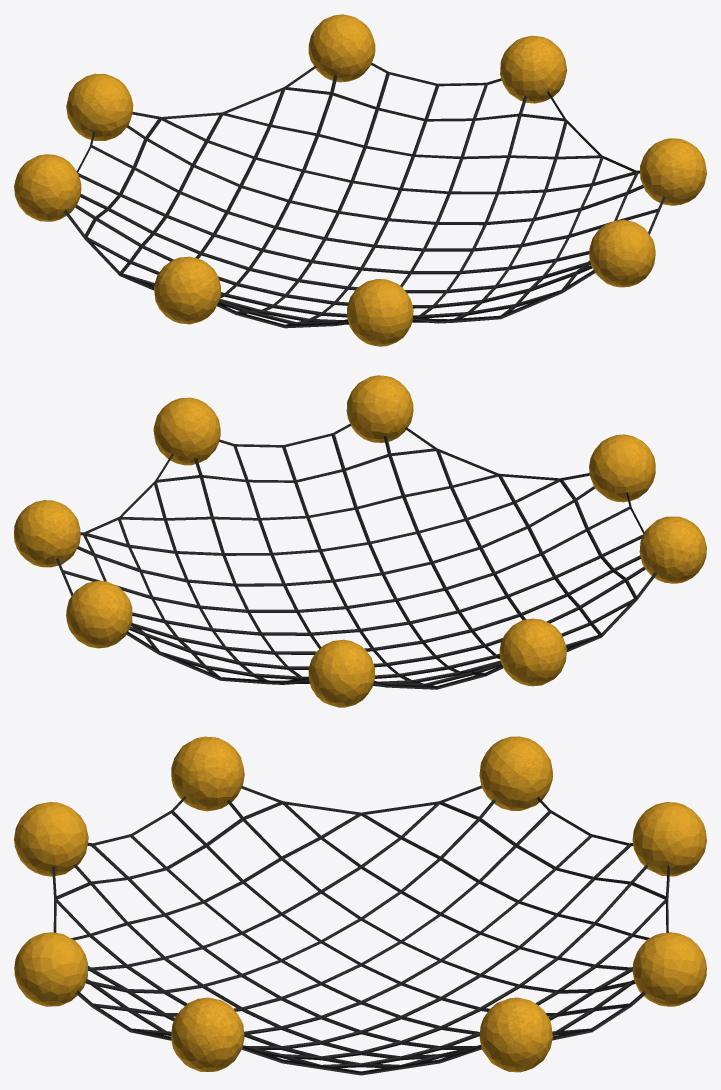
File: Net_Low_Poly.fbx
3 views of the same model, one above another, from view 1: azimuth 30°, elevation 25°; view 2: azimuth 150°, elevation 25°; view 3: azimuth 270°, elevation 25° (orthographic). The views are drawn at different scales.
Parts seen in each view (by area): view 1: Plane, Sphere.006, Sphere, Sphere.007, Sphere.003, Sphere.001, Sphere.005, Sphere.004, Sphere.002; view 2: Plane, Sphere.006, Sphere, Sphere.002, Sphere.005, Sphere.007, Sphere.004, Sphere.003, Sphere.001; view 3: Plane, Sphere.004, Sphere.003, Sphere.001, Sphere.007, Sphere.002, Sphere.005, Sphere.006, Sphere.
Boxes of the visible parts, left/top/right/bottom form: Plane: left=63, top=63, right=665, bottom=328; Sphere.006: left=154, top=256, right=220, bottom=324; Sphere: left=14, top=154, right=81, bottom=221; Sphere.007: left=640, top=138, right=706, bottom=205; Sphere.003: left=589, top=219, right=655, bottom=287; Sphere.001: left=347, top=279, right=413, bottom=346; Sphere.005: left=500, top=35, right=567, bottom=103; Sphere.004: left=308, top=14, right=375, bottom=82; Sphere.002: left=66, top=73, right=133, bottom=140; Plane: left=56, top=423, right=656, bottom=689; Sphere.006: left=639, top=516, right=706, bottom=583; Sphere: left=499, top=618, right=566, bottom=686; Sphere.002: left=308, top=639, right=374, bottom=707; Sphere.005: left=14, top=500, right=80, bottom=567; Sphere.007: left=153, top=397, right=220, bottom=465; Sphere.004: left=66, top=580, right=132, bottom=648; Sphere.003: left=346, top=375, right=413, bottom=442; Sphere.001: left=589, top=434, right=655, bottom=502; Plane: left=52, top=785, right=670, bottom=1075; Sphere.004: left=632, top=932, right=706, bottom=1006; Sphere.003: left=14, top=932, right=87, bottom=1006; Sphere.001: left=14, top=802, right=88, bottom=876; Sphere.007: left=171, top=997, right=244, bottom=1071; Sphere.002: left=632, top=802, right=706, bottom=876; Sphere.005: left=479, top=997, right=552, bottom=1072; Sphere.006: left=171, top=736, right=244, bottom=811; Sphere: left=479, top=736, right=552, bottom=810.
Size of the model in its own units: 2.24 by 0.4762 by 2.24.
2 materials, 1 textured.
